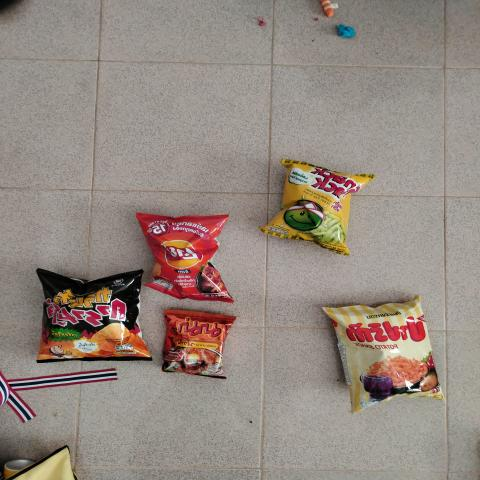karamujo: (53, 288, 141, 354)
mama: (172, 317, 212, 370)
paprika: (345, 306, 420, 400)
snack_jack: (290, 172, 336, 244)
